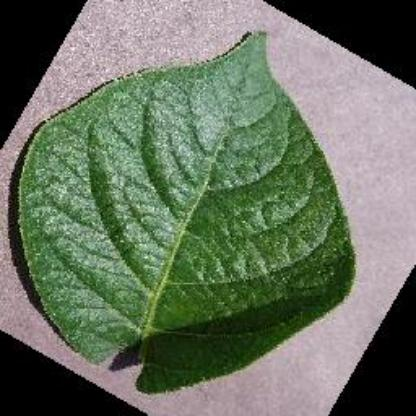Healthy-plant: (17, 21, 364, 394)
